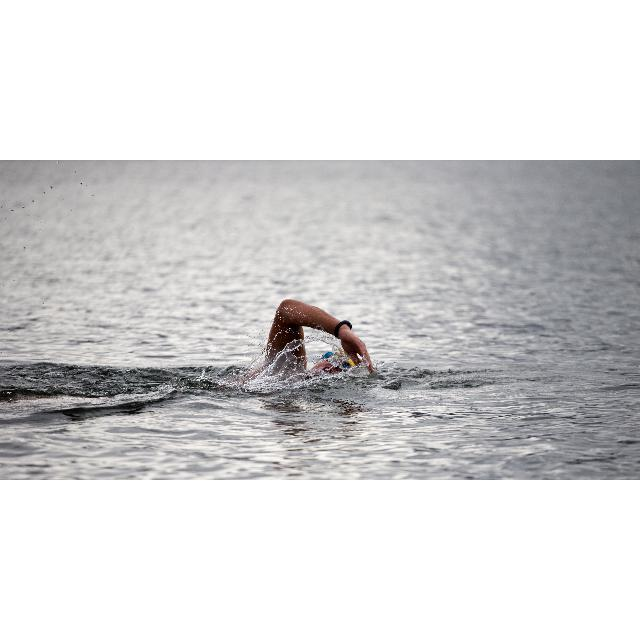human: (220, 297, 388, 392)
